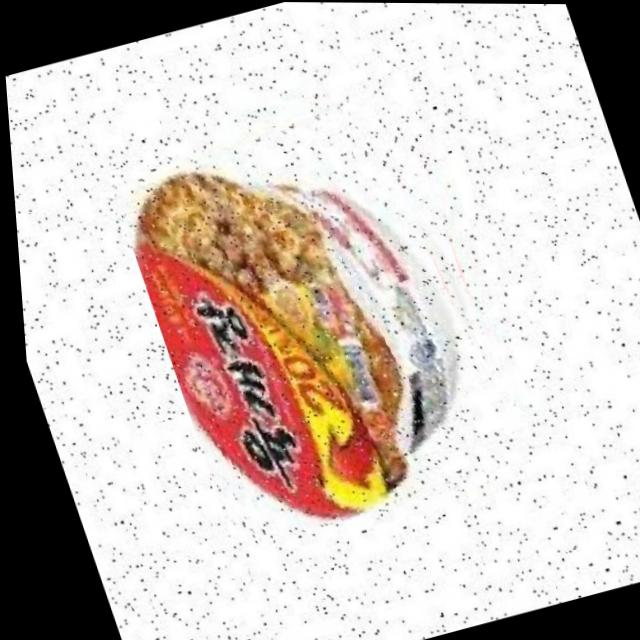Miscellaneous: (99, 88, 532, 550)
